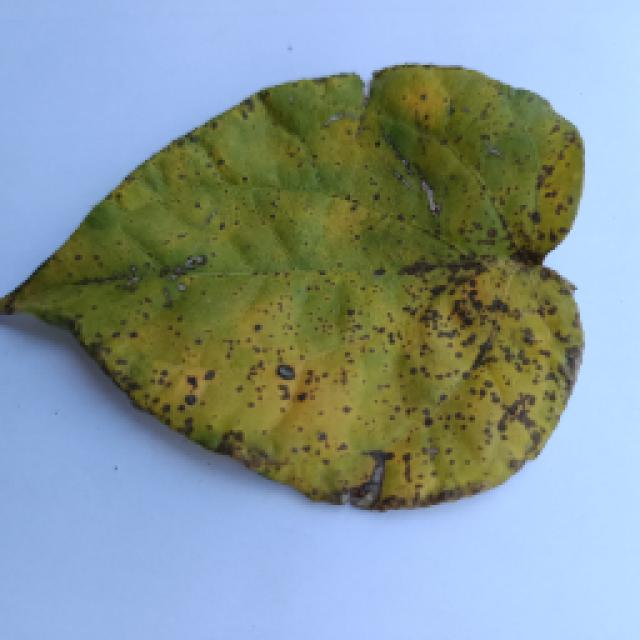slow-decline: (0, 63, 598, 525)
